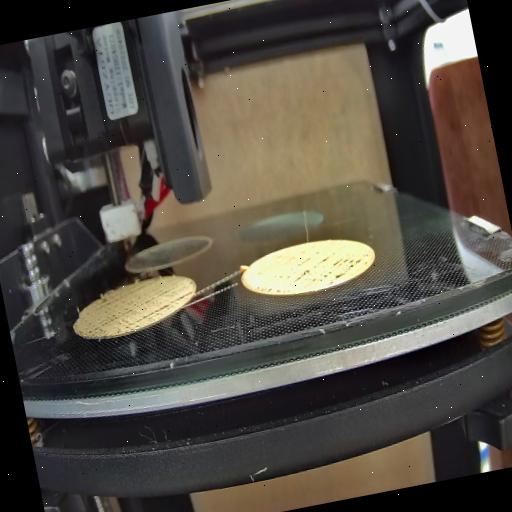under_extrusion: (82, 278, 198, 338), (252, 246, 374, 294)
